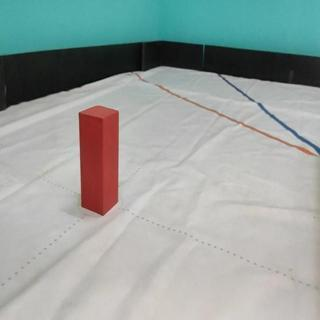redbox: (78, 104, 119, 217)
